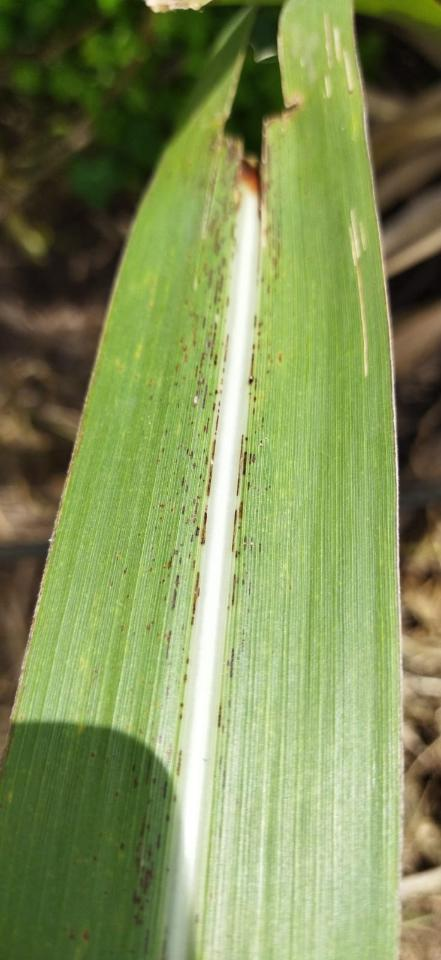Rust: (144, 142, 243, 633), (123, 726, 184, 959), (229, 310, 270, 614), (259, 124, 284, 297), (226, 645, 238, 681), (163, 630, 175, 660), (215, 700, 224, 733), (182, 655, 191, 687), (177, 700, 185, 723)
